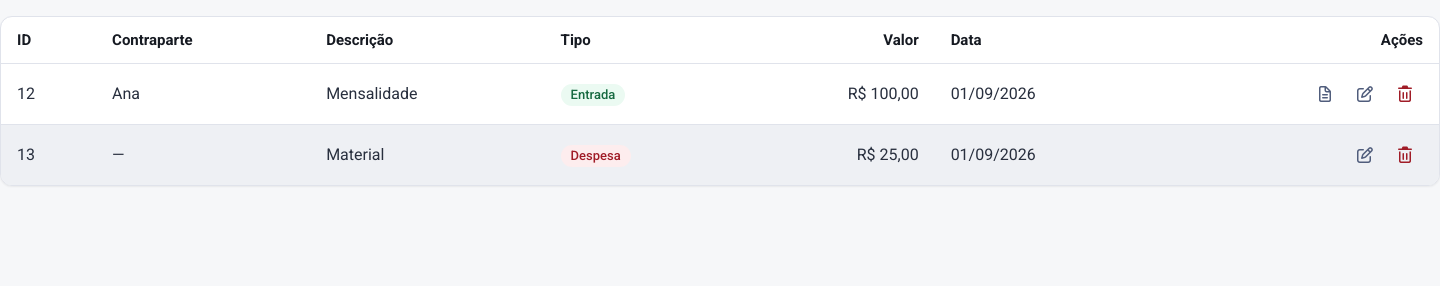
Scenario: LancamentosTable › shows the corrected description, announces it and returns focus to the edit button
The width and height of the screenshot is (1440, 286).
Click the button named "Editar descrição do lançamento 12" at (1365, 94), box x1=1347 y1=76 x2=1383 y2=112
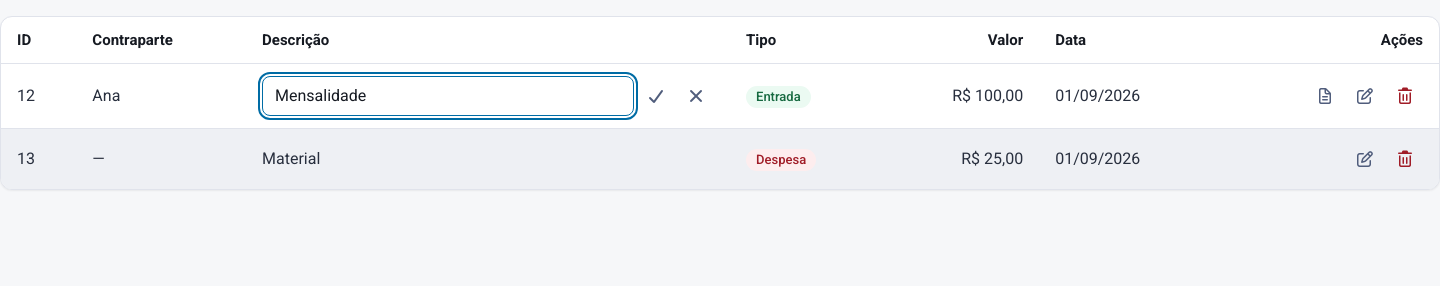
Replace the text in the field named "Descrição do lançamento 12" with "Mensalidade de outubro" at (448, 96), box x1=262 y1=76 x2=634 y2=116
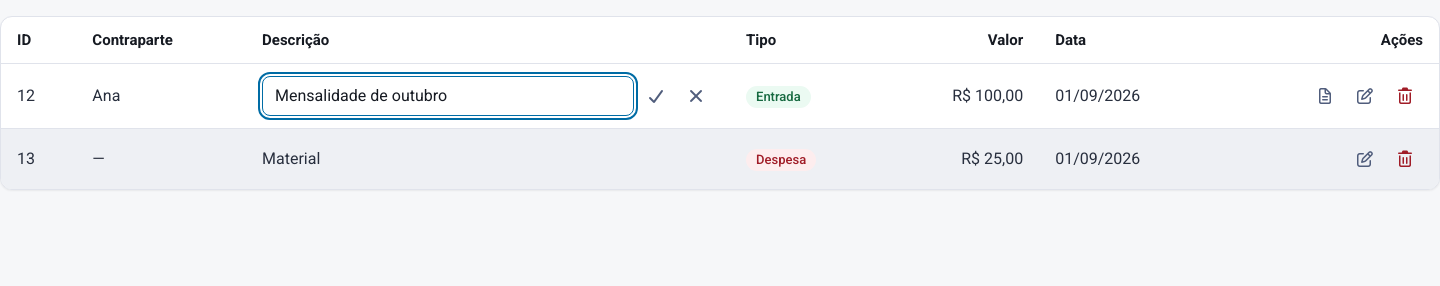
Press Enter in the field named "Descrição do lançamento 12", box x1=262 y1=76 x2=634 y2=116
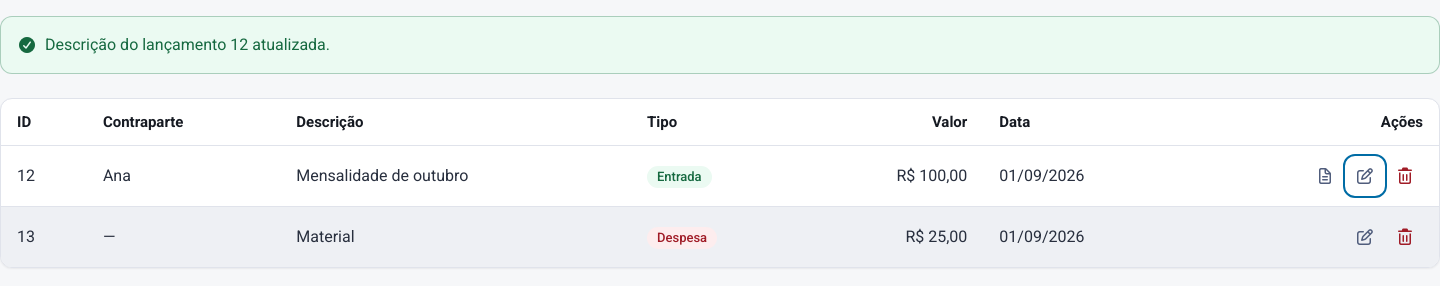
Expected: the message "Descrição do lançamento 12 atualizada." is shown, x1=0 y1=16 x2=1439 y2=74
Expected: the row "12 Ana Mensalidade de outubro Entrada R$ 100,00 01/09/2026" is shown, x1=1 y1=146 x2=1439 y2=206
